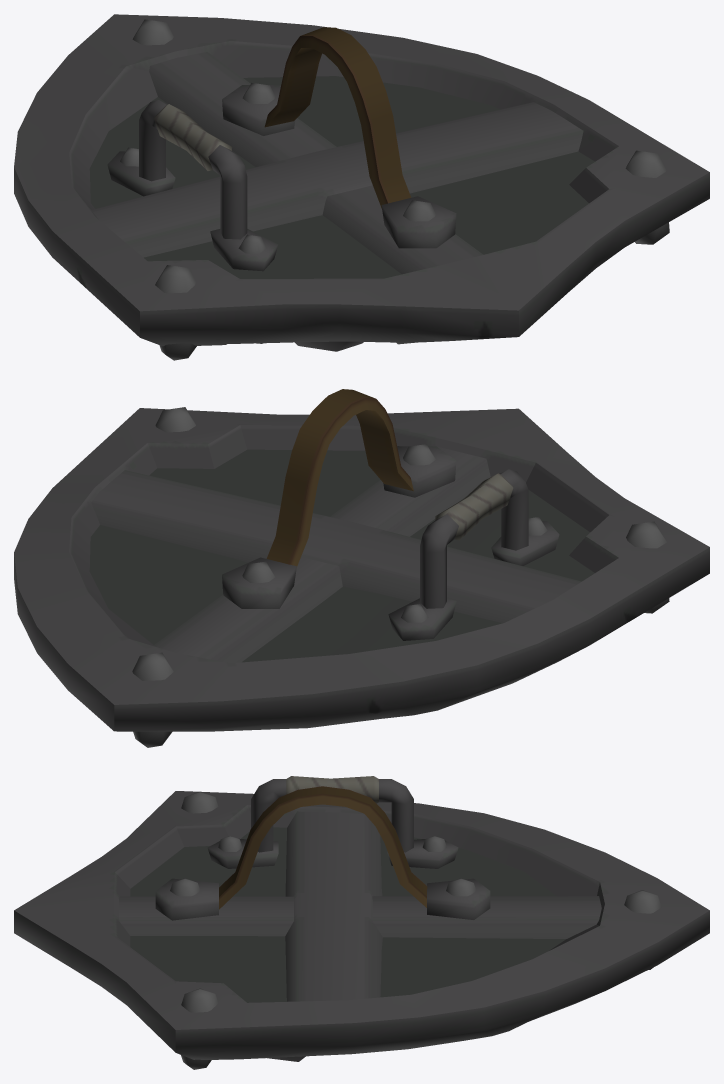
File: Weapon_Shield_030.glb
3 views of the same model, one above another, from view 1: azimuth 30°, elevation 25°; view 2: azimuth 150°, elevation 25°; view 3: azimuth 270°, elevation 25° (orthographic). The views are drawn at different scales.
Visible parts, largest first — view 1: Weapon_Shield_030; view 2: Weapon_Shield_030; view 3: Weapon_Shield_030.
Part boxes in pixels (<box>): Weapon_Shield_030: <box>14,14,709,360</box>; Weapon_Shield_030: <box>14,389,709,747</box>; Weapon_Shield_030: <box>14,776,709,1069</box>.
Size of the model in its own units: 0.554 by 0.2395 by 0.6812.
1 material, 1 textured.
